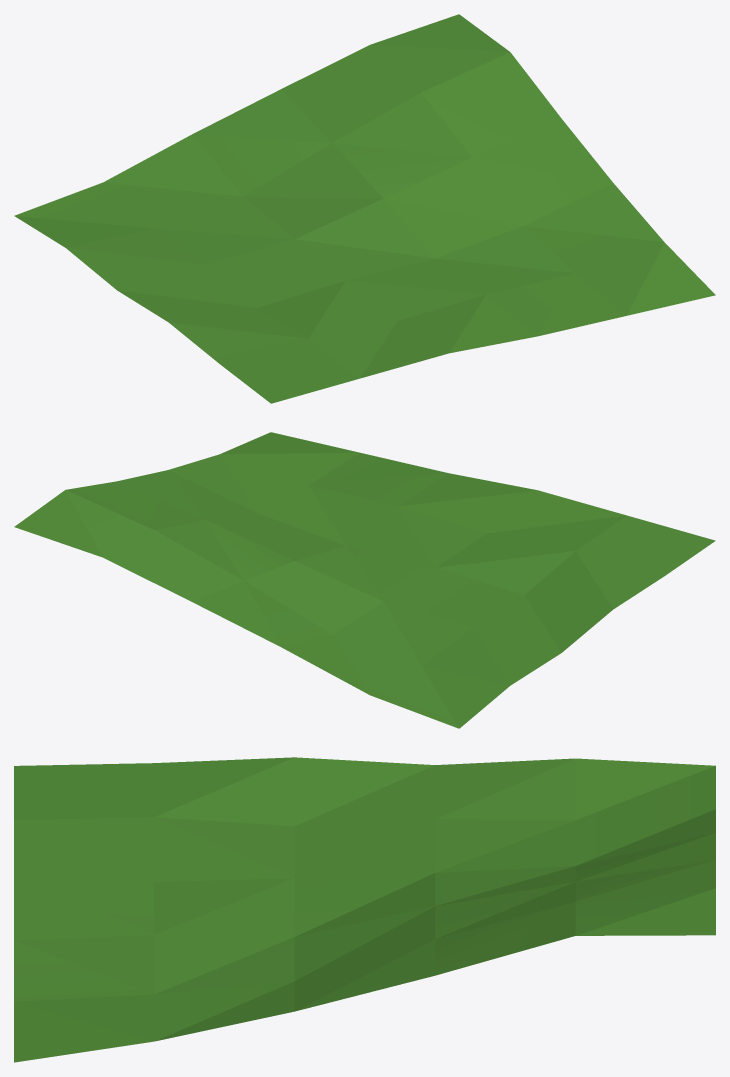
The model's file is terrains_terrain-plane-hill1.fbx.
3 views of the same model, one above another, from view 1: azimuth 30°, elevation 25°; view 2: azimuth 150°, elevation 25°; view 3: azimuth 270°, elevation 25° (orthographic). The views are drawn at different scales.
Parts seen in each view (by area): view 1: terrains_terrain_plane_hill1; view 2: terrains_terrain_plane_hill1; view 3: terrains_terrain_plane_hill1.
Boxes of the visible parts, x1,y1,x2,y2 form: terrains_terrain_plane_hill1: (14, 14, 715, 403); terrains_terrain_plane_hill1: (14, 432, 715, 728); terrains_terrain_plane_hill1: (14, 757, 715, 1062).
Size of the model in its own units: 200 by 40.37 by 200.
